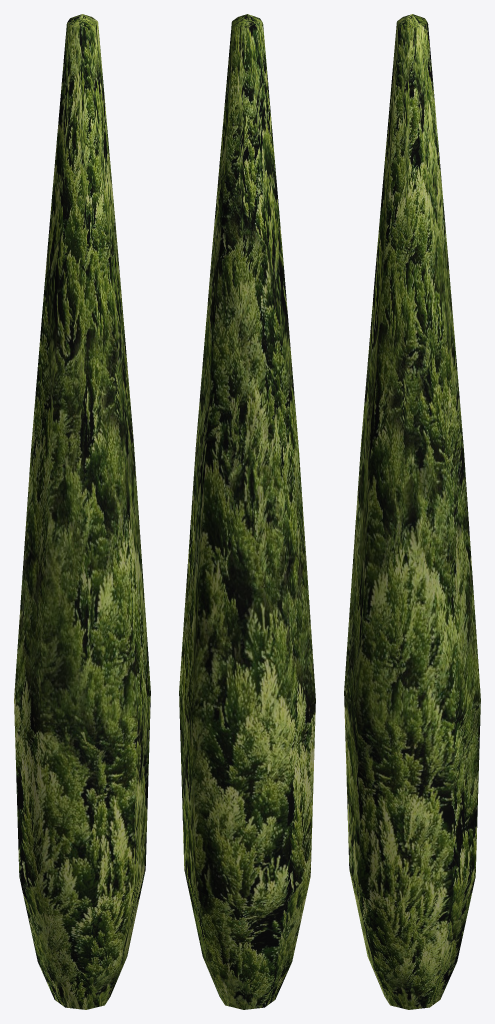
Rendered from Tree_tall_low.FBX.
3 views of the same model, side by side, from view 1: azimuth 30°, elevation 25°; view 2: azimuth 150°, elevation 25°; view 3: azimuth 330°, elevation 25° (orthographic).
Parts seen in each view (by area): view 1: Tree_tall_low; view 2: Tree_tall_low; view 3: Tree_tall_low.
Boxes of the visible parts, x1,y1,x2,y2 form: Tree_tall_low: [14, 14, 150, 1009]; Tree_tall_low: [179, 14, 315, 1009]; Tree_tall_low: [344, 14, 480, 1009].
Size of the model in its own units: 127 by 127 by 1081.
1 material, 1 textured.
